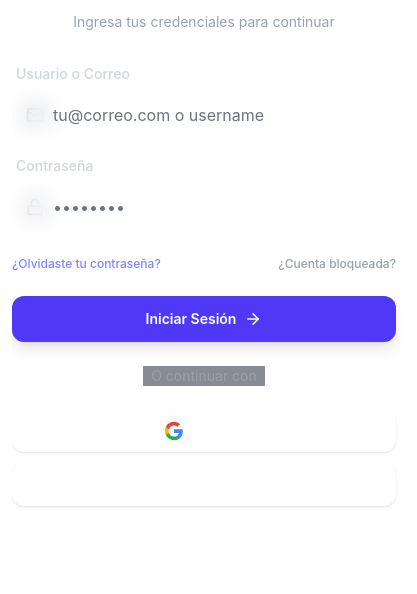
Scenario: LoginForm › shows error message when login fails
This screenshot has width=417, height=594.
In the field with placeholder "tu@correo.com o username": x=204, y=115 [12,90,396,140], type "fail@test.com"
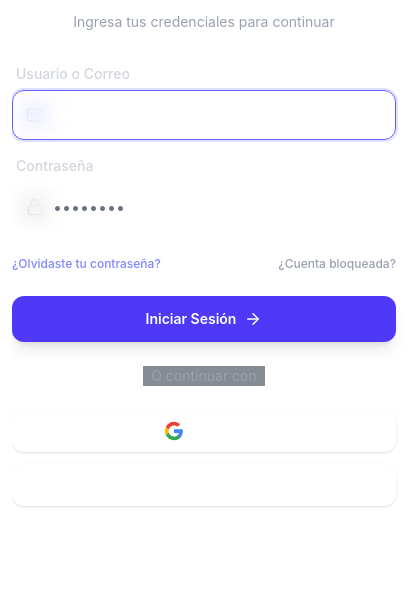
In the password field with placeholder "••••••••": x=204, y=207 [12,182,396,232], type "password"
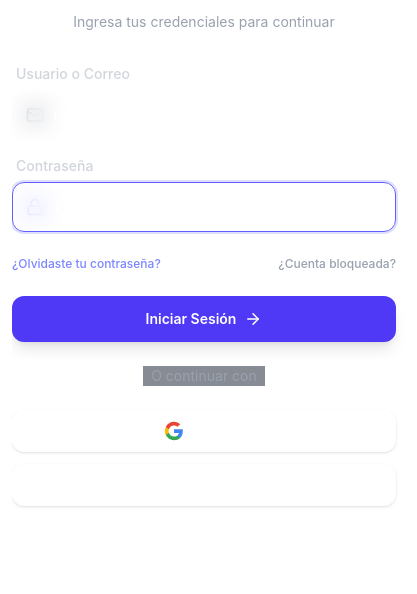
Click the button "Iniciar Sesión": x=204, y=319 [12,296,396,342]
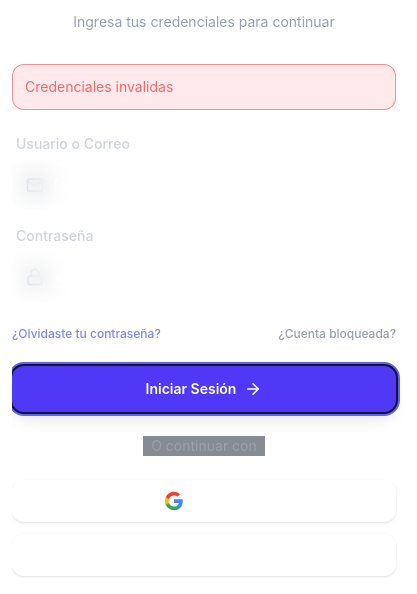
Check: the text "Credenciales invalidas" is shown, box [12,64,396,110]
